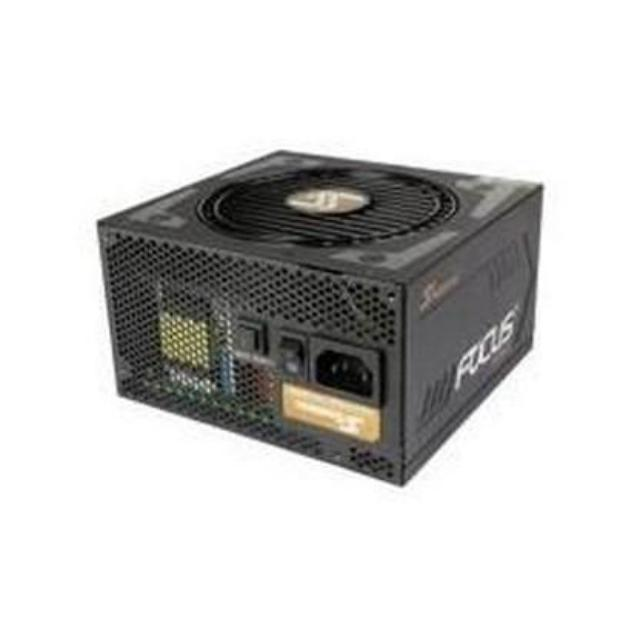PSU: (86, 140, 558, 505)
